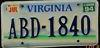placa de veiculo: (3, 2, 99, 47)
